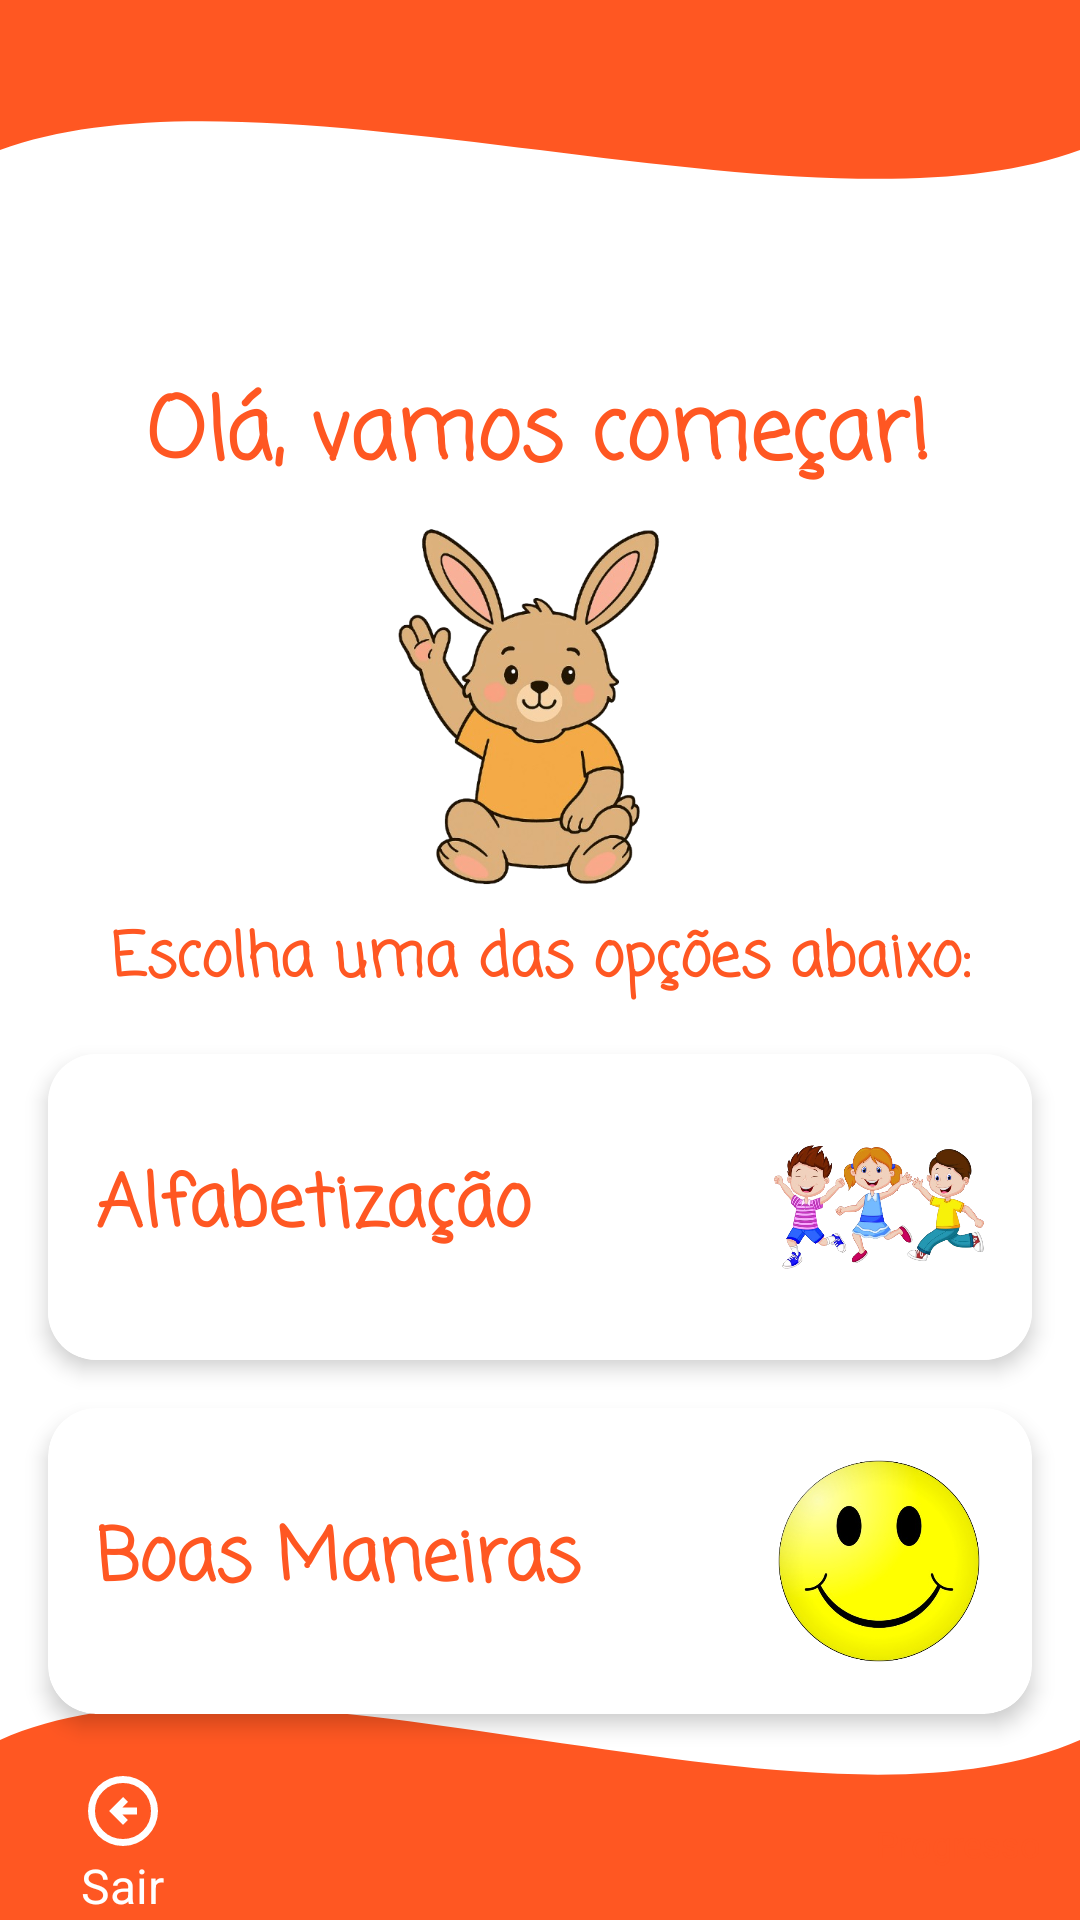

Icon click points for this 1080*1920 phone screenshot, format (x=x, y=y):
children: (x=879, y=1207)
smile: (x=879, y=1561)
